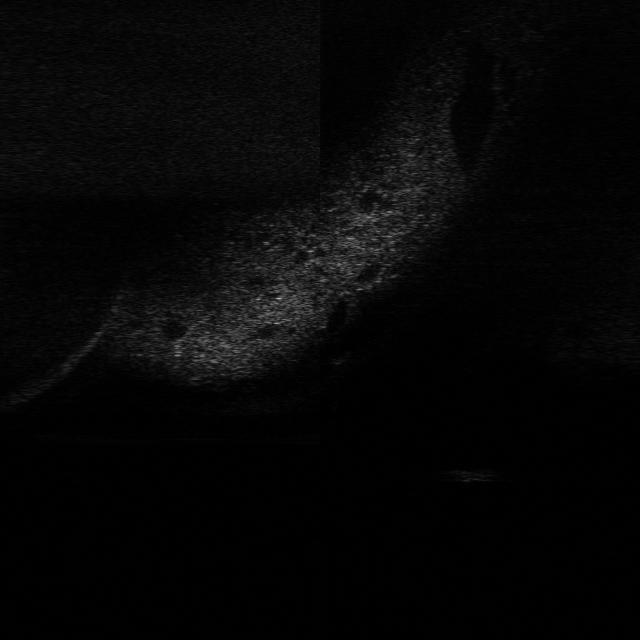ball: (317, 337, 354, 366)
cube: (441, 464, 502, 484)
